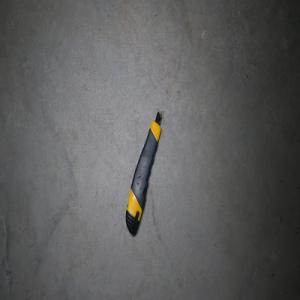Cutter: (125, 110, 163, 236)
